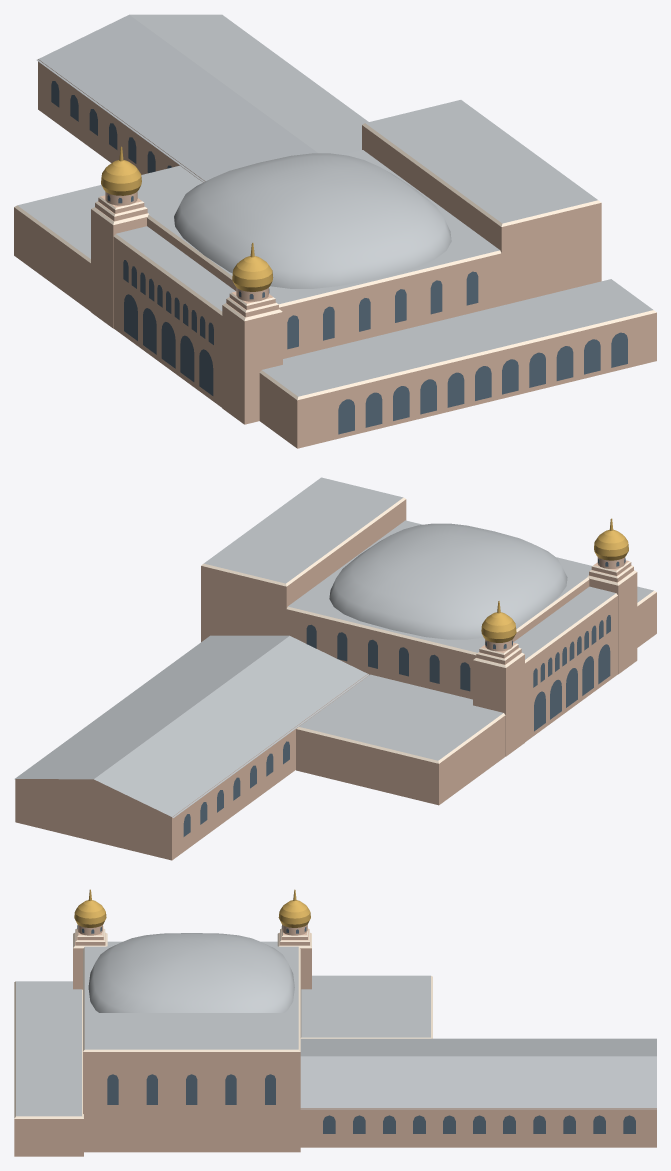
File: la-shrine-auditorium.glb
3 views of the same model, one above another, from view 1: azimuth 30°, elevation 25°; view 2: azimuth 150°, elevation 25°; view 3: azimuth 270°, elevation 25° (orthographic). The views are drawn at different scales.
Visible parts, largest first — view 1: Shrine Auditorium; view 2: Shrine Auditorium; view 3: Shrine Auditorium.
Part boxes in pixels (x1,y1,x2,y2): Shrine Auditorium: (14, 14, 656, 448); Shrine Auditorium: (14, 477, 656, 860); Shrine Auditorium: (14, 889, 656, 1156).
Bounding box in the file's own units: 89.8 × 38.8 × 171.
